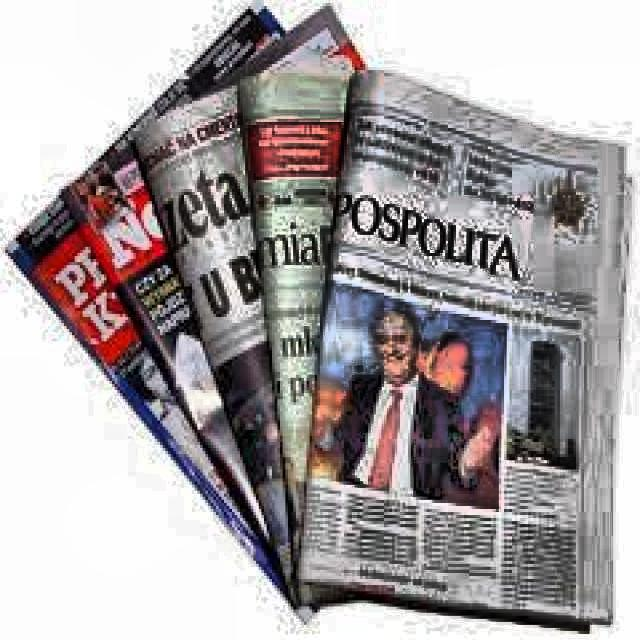Paper: (0, 0, 520, 625), (40, 21, 443, 625), (240, 79, 595, 631), (130, 0, 453, 603), (293, 64, 619, 619)
